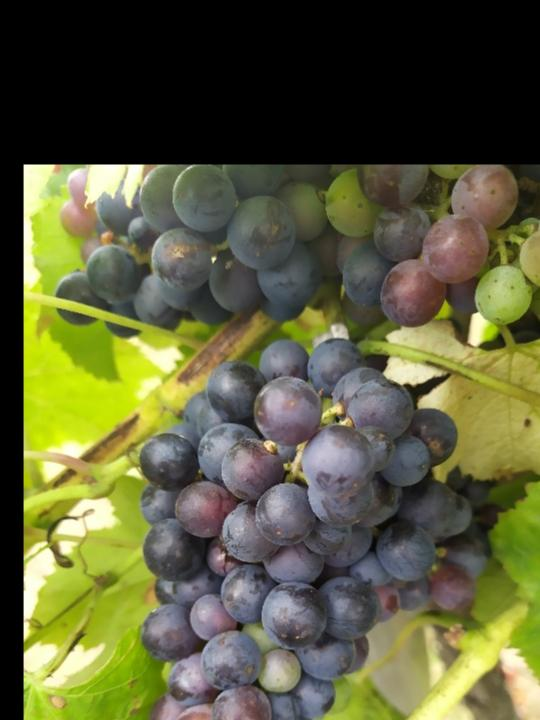grape: (132, 331, 482, 720)
